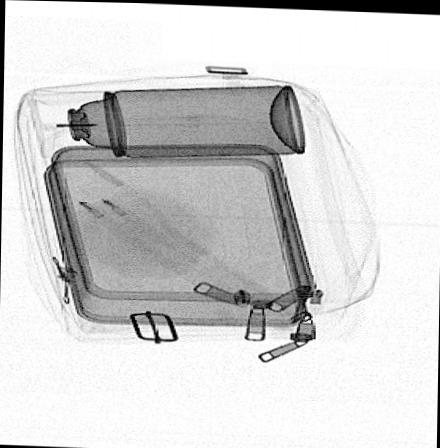Sprayer: (25, 81, 307, 158)
